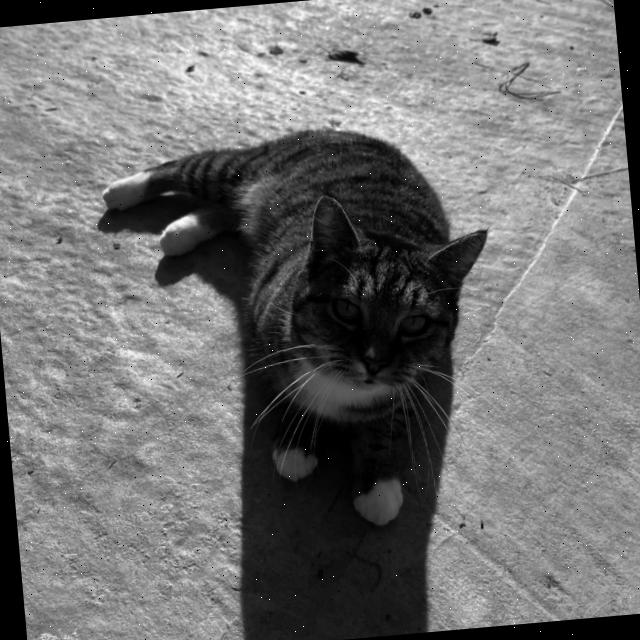manx_cat: (221, 173, 511, 428)
